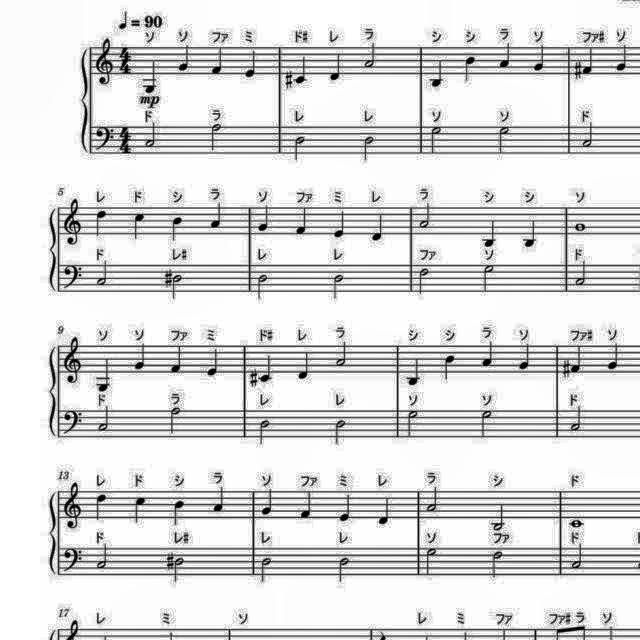Bass-clef: (62, 406, 86, 438), (62, 545, 86, 575), (62, 264, 86, 292), (94, 122, 115, 152)
Diez: (248, 365, 260, 391), (282, 68, 294, 92), (572, 60, 584, 82), (560, 358, 572, 379), (165, 550, 175, 574), (162, 268, 174, 288)
Full-note: (567, 517, 587, 529), (572, 220, 588, 232)
Half-note: (424, 482, 444, 518), (426, 124, 446, 156), (252, 418, 272, 450), (490, 500, 510, 532), (478, 264, 498, 294), (416, 201, 436, 231), (143, 120, 161, 152), (359, 132, 377, 164), (92, 541, 111, 571), (566, 402, 584, 433), (415, 266, 433, 296), (258, 556, 276, 586), (568, 541, 586, 571), (330, 418, 348, 447), (207, 120, 223, 152), (290, 132, 306, 164), (363, 40, 379, 72), (94, 258, 110, 290), (333, 341, 351, 369), (478, 408, 494, 439), (580, 121, 596, 151), (254, 272, 270, 302), (96, 403, 112, 433), (166, 405, 182, 435), (404, 408, 420, 438), (423, 547, 439, 577), (172, 556, 188, 584), (491, 546, 504, 578), (574, 260, 588, 288), (498, 124, 510, 156), (338, 554, 350, 586), (169, 273, 183, 299), (332, 272, 344, 300)
Quarter-note: (296, 487, 320, 521), (140, 58, 162, 94), (334, 492, 358, 524), (95, 356, 114, 394), (519, 218, 541, 250), (202, 345, 222, 379), (425, 56, 445, 88), (457, 52, 477, 84), (292, 206, 312, 238), (256, 353, 276, 385), (294, 350, 314, 382), (403, 356, 423, 388), (604, 342, 624, 374), (569, 343, 587, 377), (240, 50, 260, 80), (166, 213, 186, 243), (327, 50, 345, 82), (330, 208, 348, 240), (480, 218, 498, 250), (168, 344, 186, 376), (130, 492, 148, 524), (290, 56, 310, 84), (258, 487, 276, 518), (376, 494, 392, 528), (176, 42, 194, 72), (530, 44, 548, 74), (440, 351, 458, 381), (210, 44, 226, 76), (498, 41, 514, 73), (92, 206, 108, 238), (132, 210, 148, 242), (132, 341, 148, 373), (480, 340, 496, 372), (516, 340, 532, 372), (92, 490, 108, 522), (171, 496, 187, 528), (212, 484, 228, 516), (369, 213, 386, 243), (614, 44, 630, 72), (257, 203, 271, 234), (209, 200, 223, 230), (582, 44, 594, 76)
Treble-clef: (92, 31, 116, 89), (62, 196, 86, 248), (62, 334, 86, 386), (62, 480, 84, 532)
